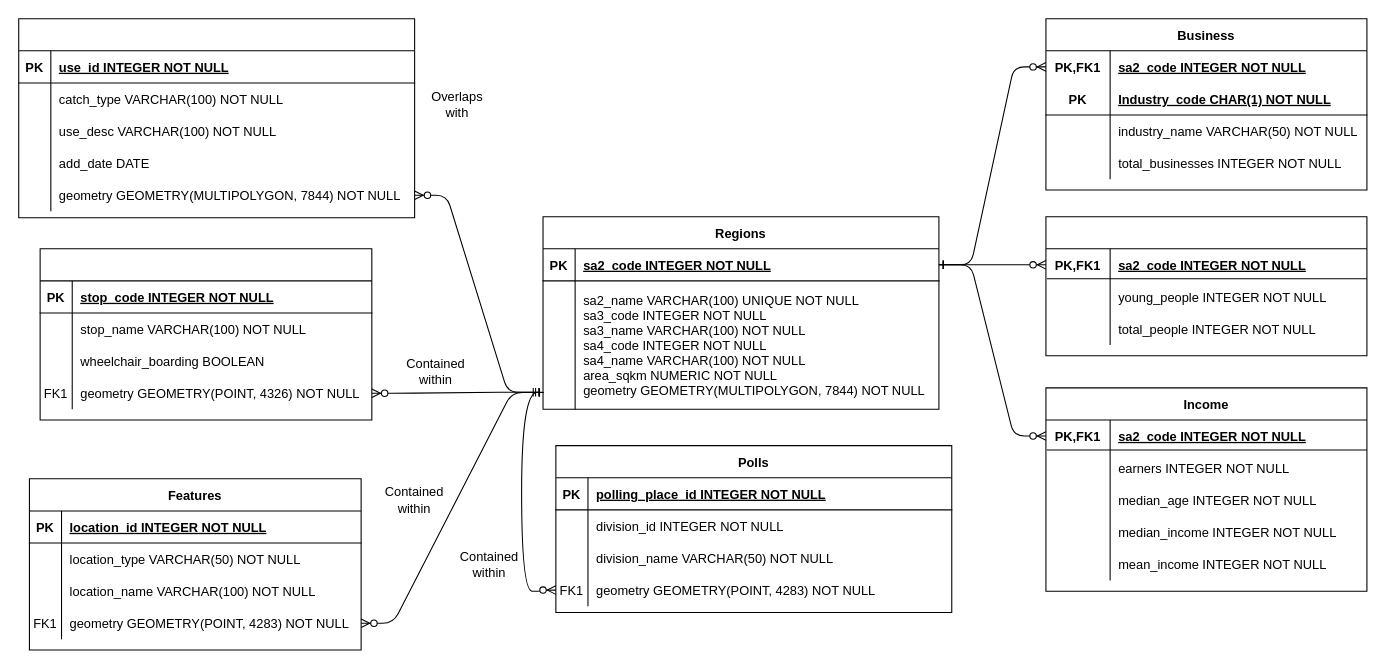
This 1387x669 diagram has some shape labels left out. The box of each missing label's shape, as (x1, y1, x2, y2) in pixels:
Catchments: (18, 18, 415, 218)
Population: (1045, 216, 1367, 356)
Stops: (39, 248, 372, 420)
